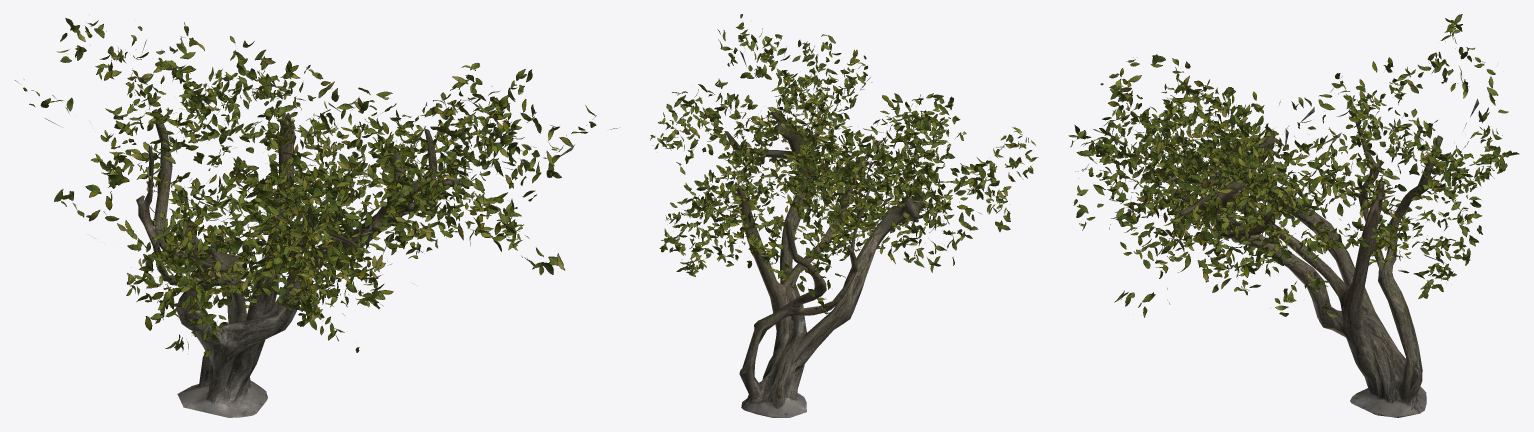
File: tree-lod.glb
3 renders of one model, left to right at view 1: azimuth 30°, elevation 25°; view 2: azimuth 150°, elevation 25°; view 3: azimuth 270°, elevation 25°, orthographic. The views are drawn at different scales.
Parts seen in each view (by area): view 1: island_tree_02_LOD0; view 2: island_tree_02_LOD0; view 3: island_tree_02_LOD0.
Boxes of the visible parts, x1=… form: island_tree_02_LOD0: x1=15, y1=18, x2=619, y2=417; island_tree_02_LOD0: x1=650, y1=14, x2=1038, y2=417; island_tree_02_LOD0: x1=1068, y1=14, x2=1519, y2=417.
Bounding box in the file's own units: 4.03 × 3.36 × 4.08.
3 materials, 3 textured.
